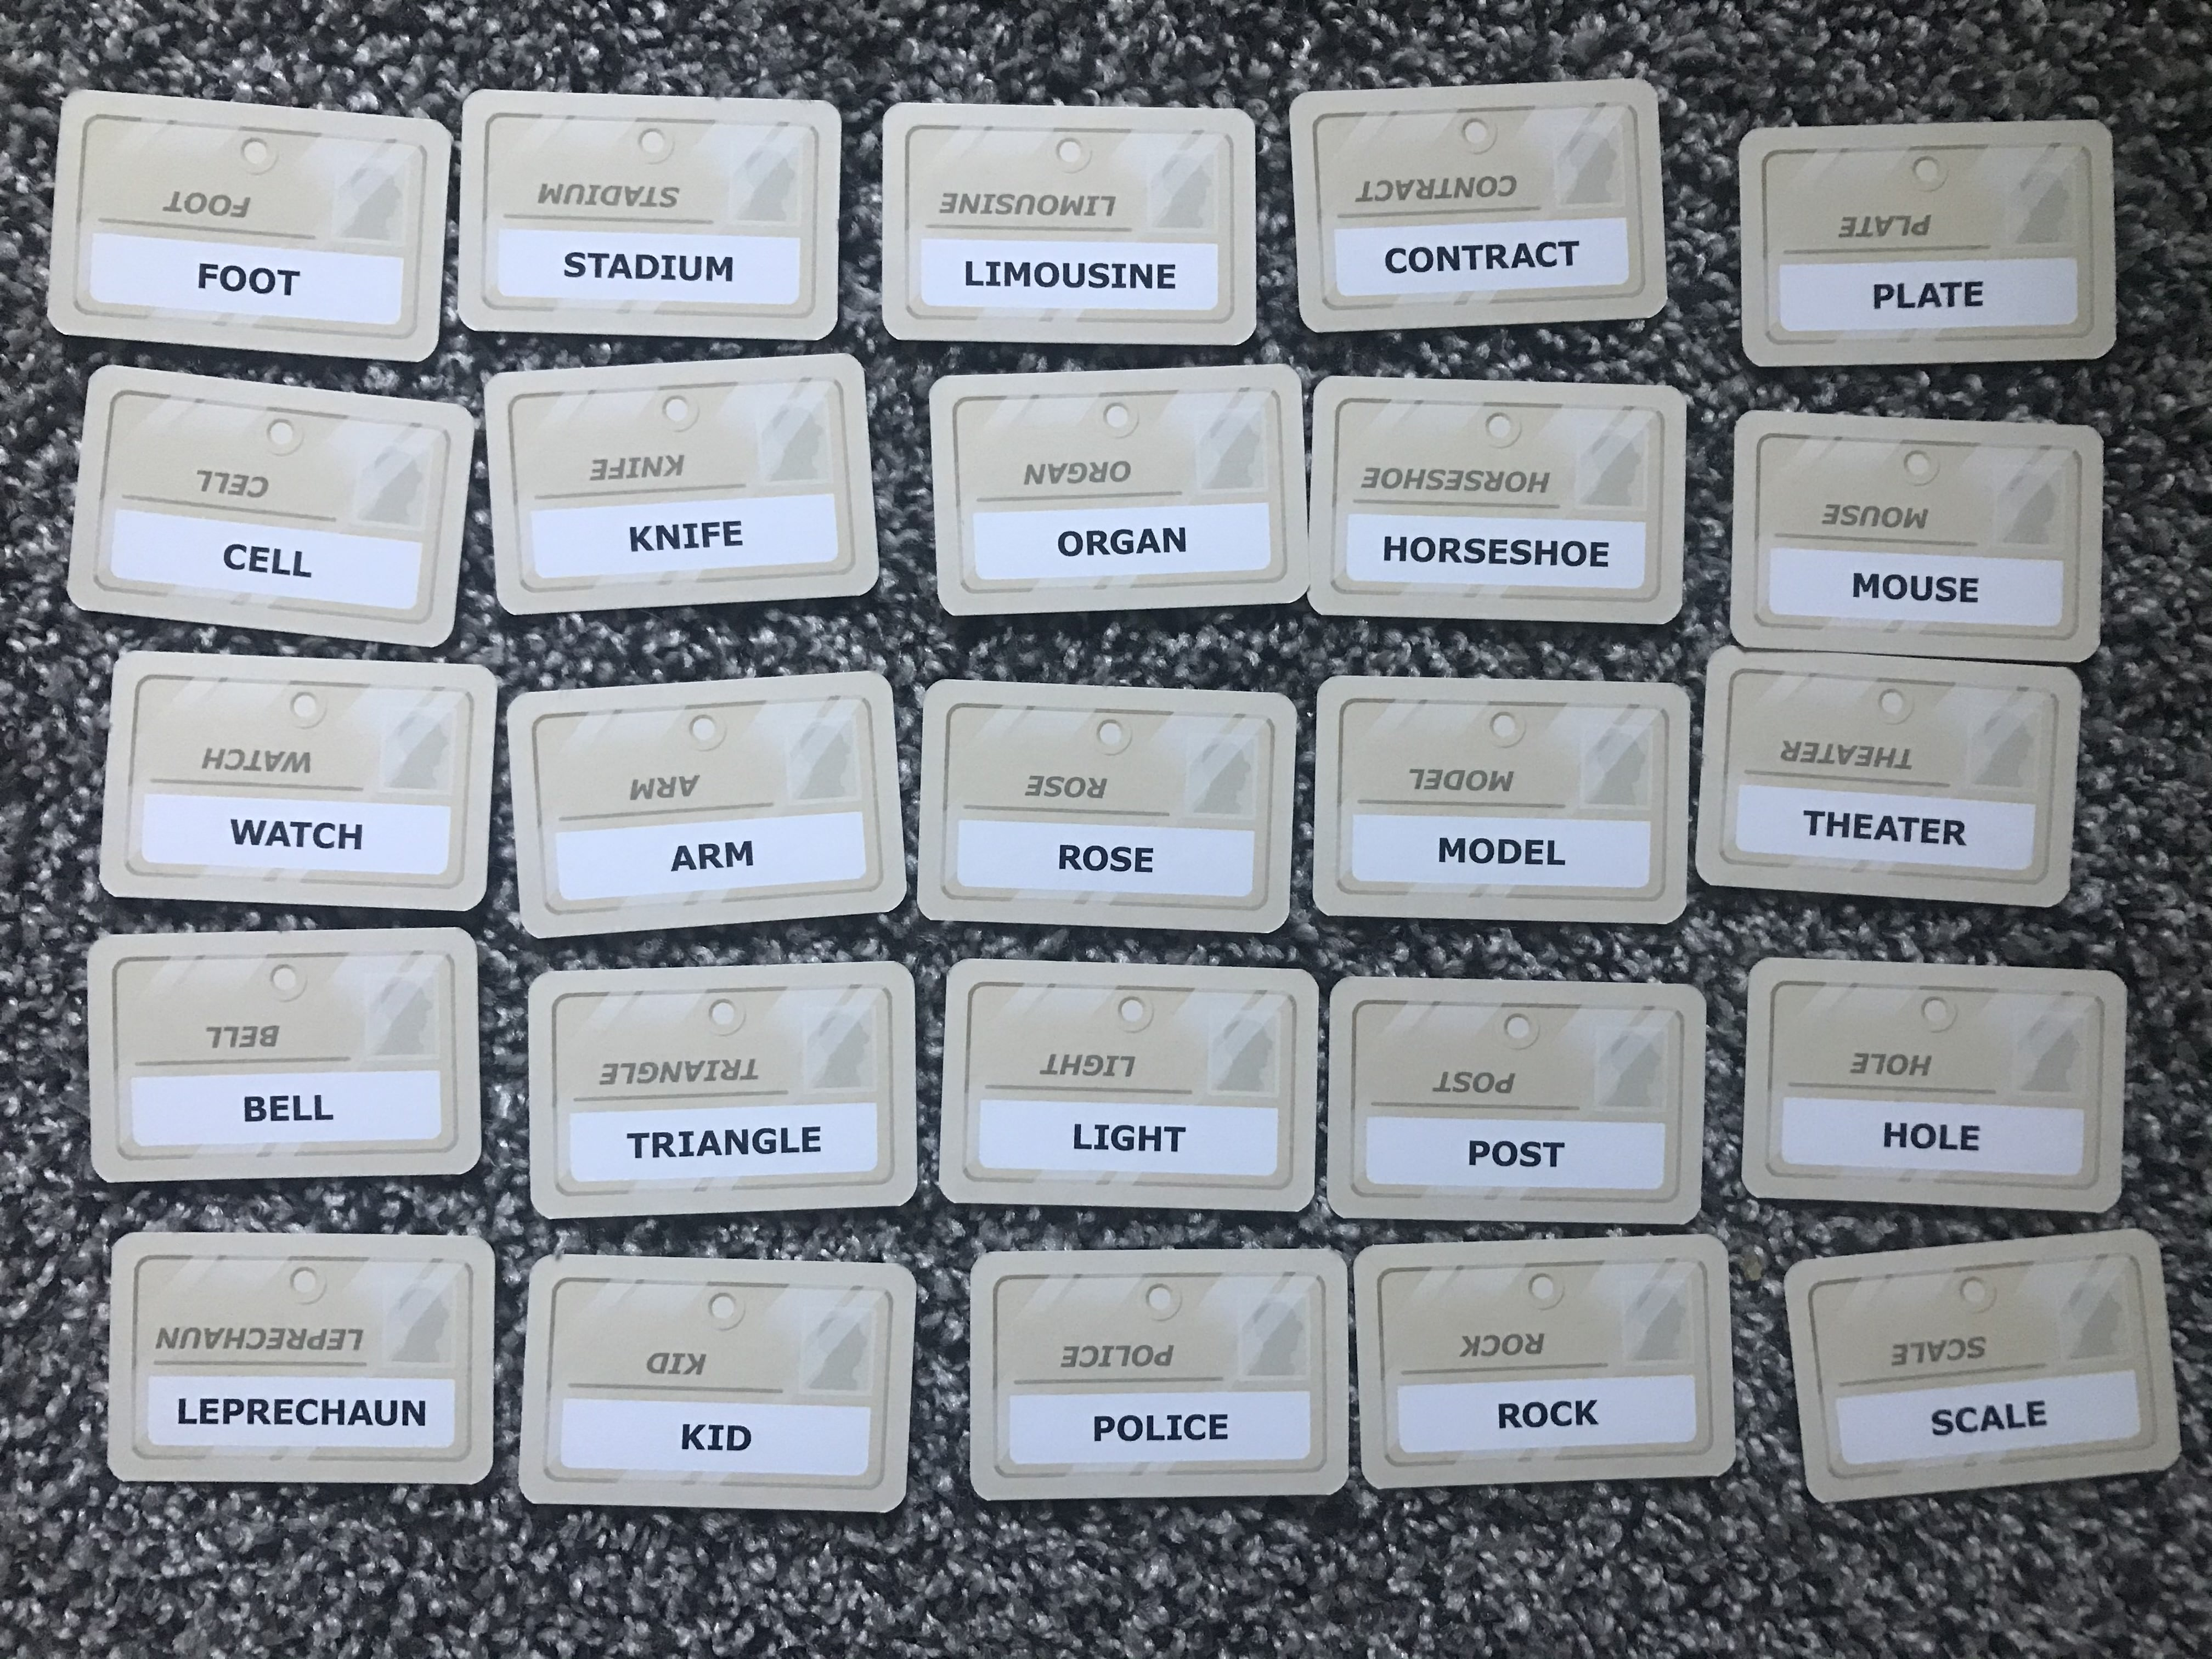A: (1134, 519, 1163, 565), (1871, 810, 1902, 852), (1918, 274, 1946, 319), (1507, 237, 1538, 277), (263, 812, 291, 856), (1977, 1398, 2005, 1439), (671, 838, 697, 882), (697, 1121, 721, 1166), (348, 1391, 369, 1436), (606, 247, 631, 286)
